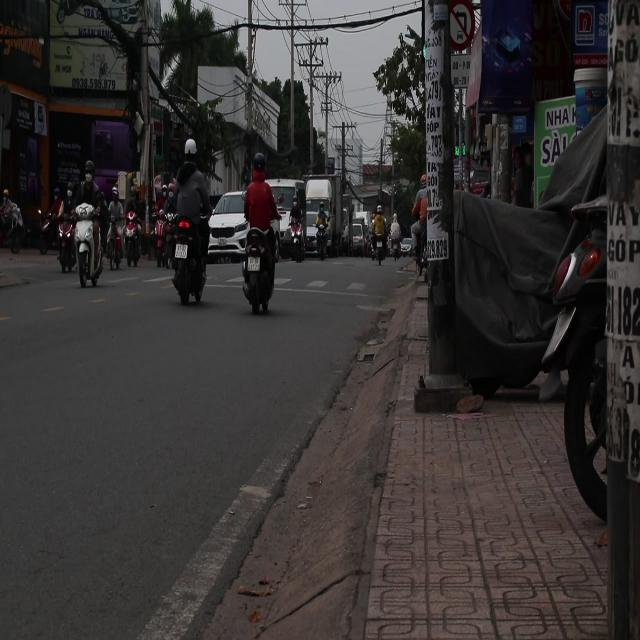car: (208, 194, 248, 253), (345, 220, 368, 255)
motorbike: (162, 193, 206, 307), (240, 222, 280, 315), (68, 206, 105, 288), (120, 214, 144, 268), (368, 219, 391, 261)
truck: (298, 166, 347, 260)
